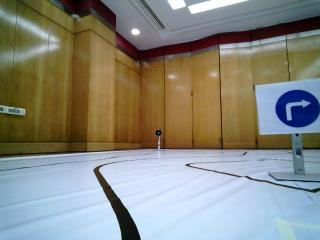right: (259, 82, 320, 132)
